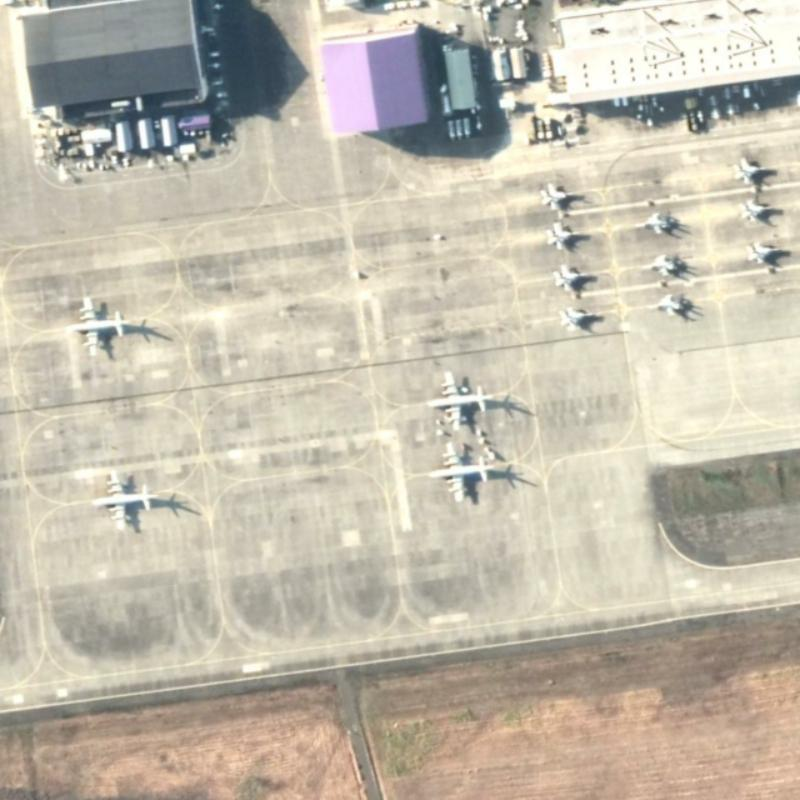A16: (534, 176, 586, 215), (742, 233, 791, 270), (730, 152, 780, 188), (629, 205, 676, 242), (732, 194, 783, 228), (540, 217, 588, 253), (549, 261, 597, 297), (554, 300, 603, 335), (632, 247, 682, 281), (640, 288, 688, 320)
A9: (84, 460, 163, 532), (422, 432, 494, 506), (58, 292, 133, 359), (421, 365, 495, 432)
